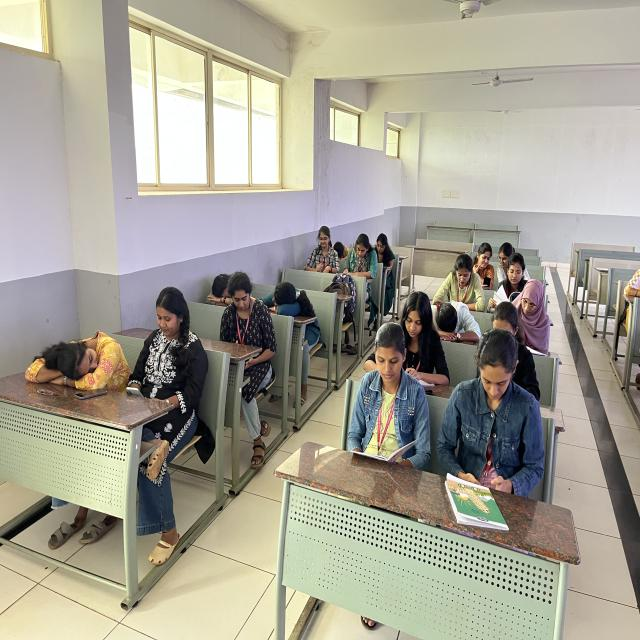Reading: (355, 308, 423, 494), (367, 289, 447, 394), (516, 272, 568, 359), (497, 256, 532, 312)
Sleeping: (23, 256, 141, 451), (266, 265, 323, 366), (423, 278, 481, 354), (202, 247, 252, 326), (332, 232, 353, 268)
Using Phone: (120, 262, 199, 449), (448, 327, 529, 485), (226, 278, 277, 404), (436, 251, 486, 306), (470, 230, 499, 295)
